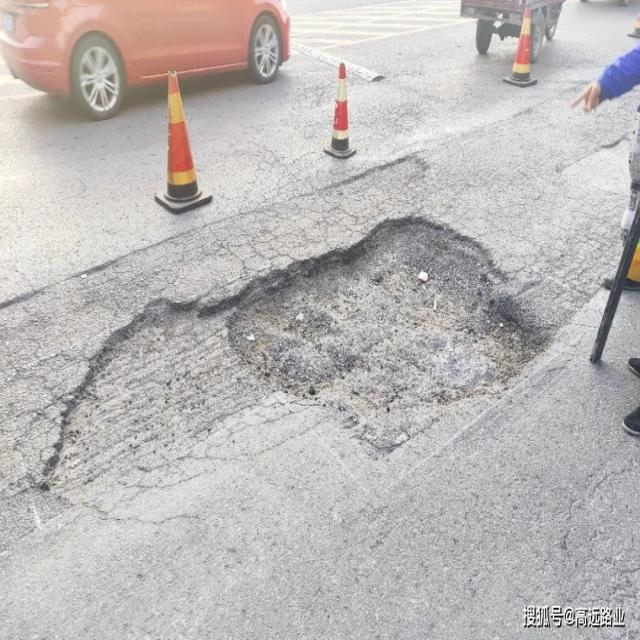Buraco: (33, 212, 558, 500)
